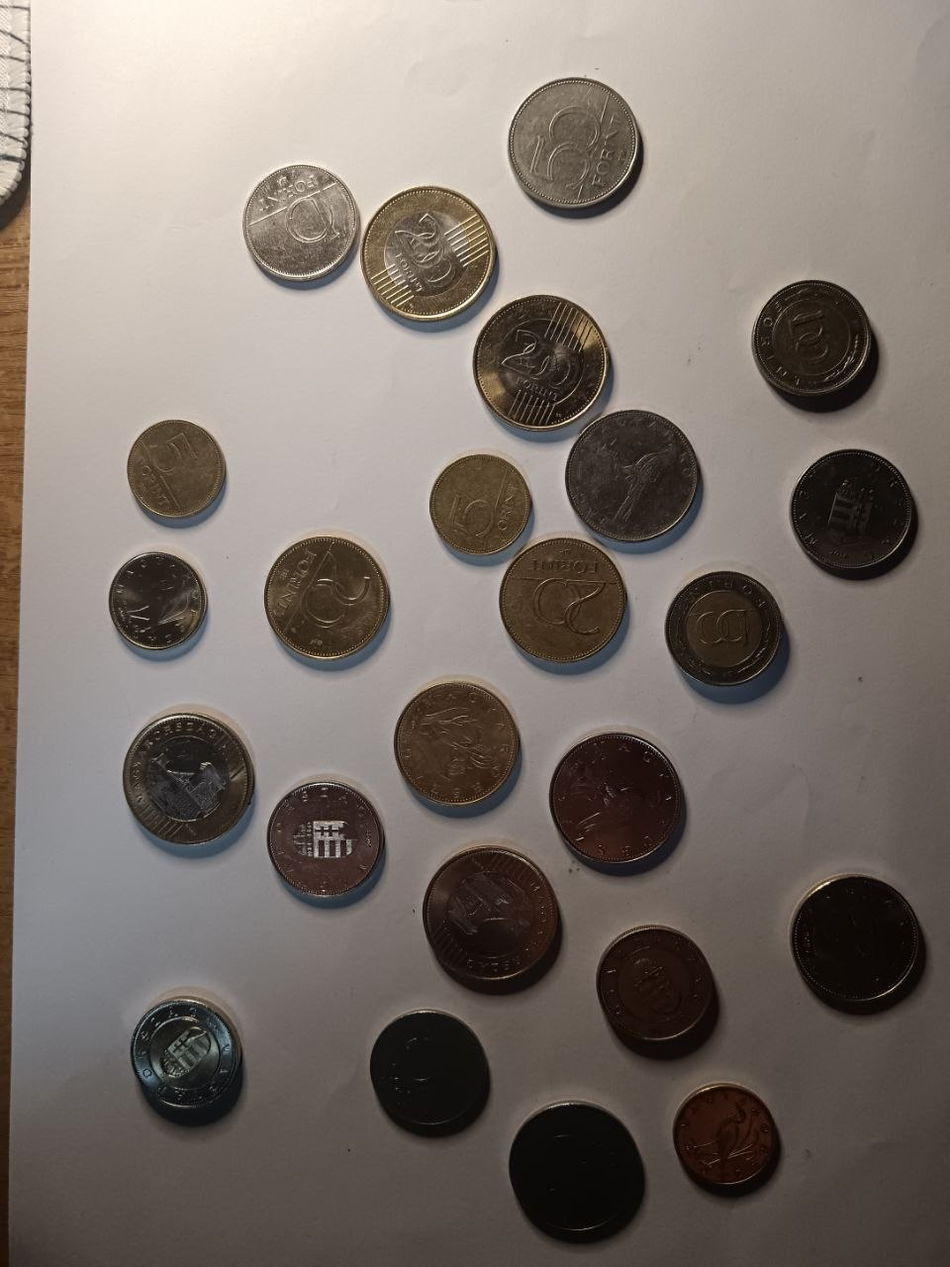100ft: (600, 926, 711, 1045), (758, 282, 868, 395), (670, 572, 780, 685), (133, 998, 239, 1110)
10ft: (796, 450, 912, 569), (375, 1013, 490, 1126), (269, 783, 382, 896), (245, 166, 355, 281)
200ft: (425, 849, 555, 981), (363, 188, 492, 321), (478, 296, 607, 428), (125, 716, 248, 844)
20ft: (794, 875, 920, 1006), (264, 538, 385, 658), (501, 539, 621, 660), (398, 681, 516, 804)
50ft: (546, 733, 680, 866), (568, 411, 700, 542), (510, 77, 636, 207), (516, 1104, 639, 1230)
5ft: (676, 1083, 774, 1185), (431, 456, 532, 552), (126, 420, 227, 515), (110, 554, 206, 651)
